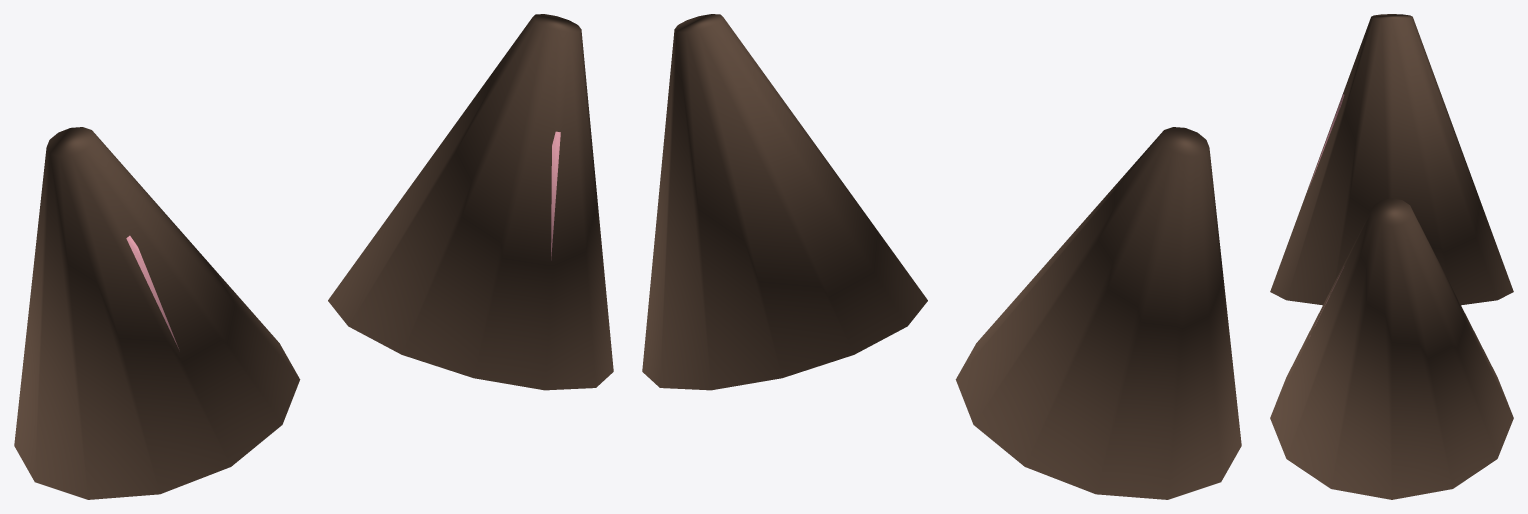
Rendered from acc_catears.glb.
3 renders of one model, left to right at view 1: azimuth 30°, elevation 25°; view 2: azimuth 150°, elevation 25°; view 3: azimuth 270°, elevation 25°, orthographic. The views are drawn at different scales.
Visible parts, largest first — view 1: acc_catears; view 2: acc_catears; view 3: acc_catears.
Part boxes in pixels (<box>): acc_catears: <box>14,14,613,499</box>; acc_catears: <box>642,14,1241,499</box>; acc_catears: <box>1270,14,1513,499</box>.
Size of the model in its own units: 0.1737 by 0.1006 by 0.0797.
